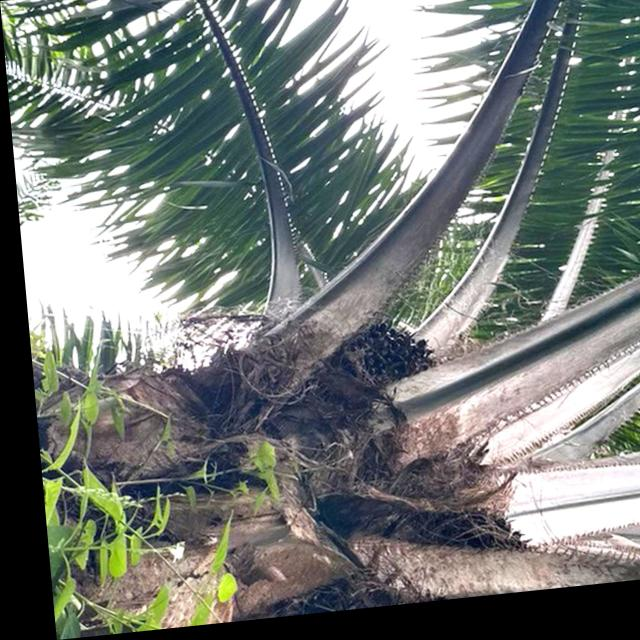unripe: (305, 307, 446, 419)
